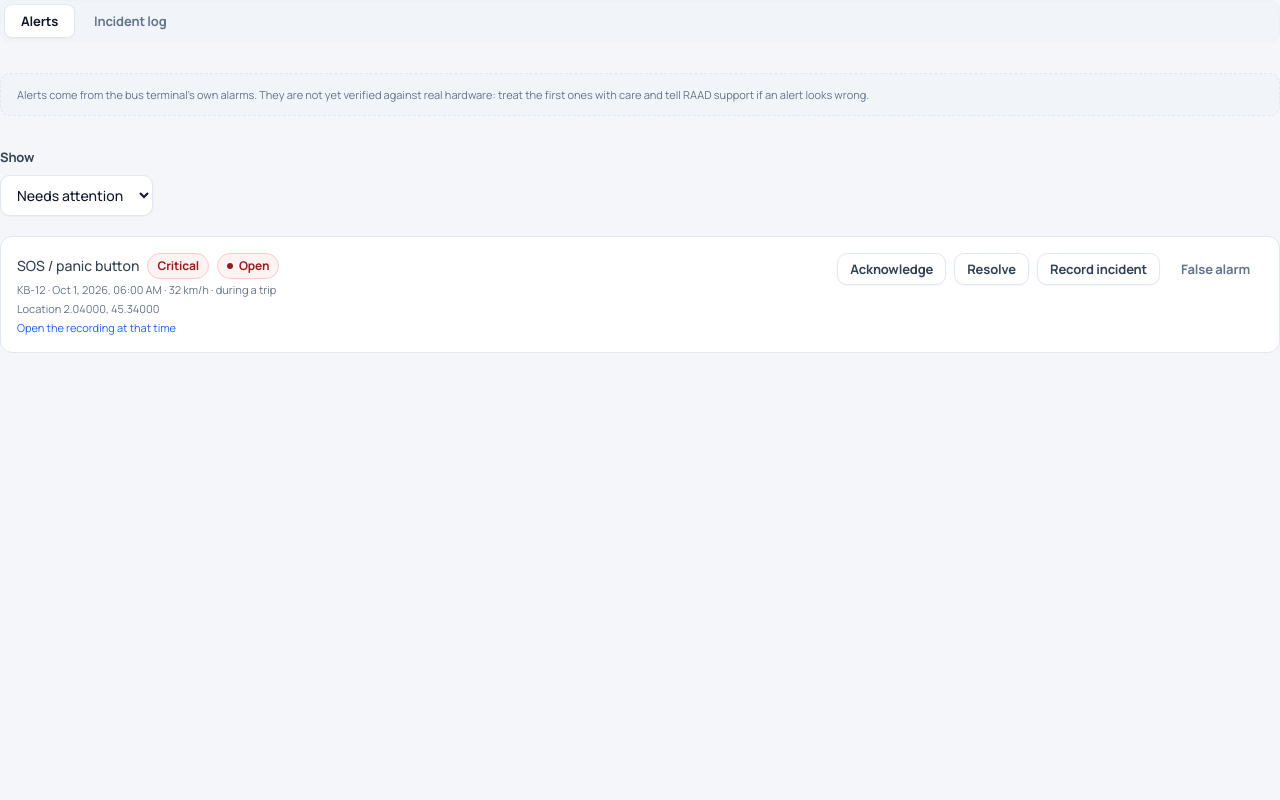
Test: SafetyPage › cannot notify parents until students are linked
Click the tab "Incident log" at (130, 21), box [77,4,184,38]
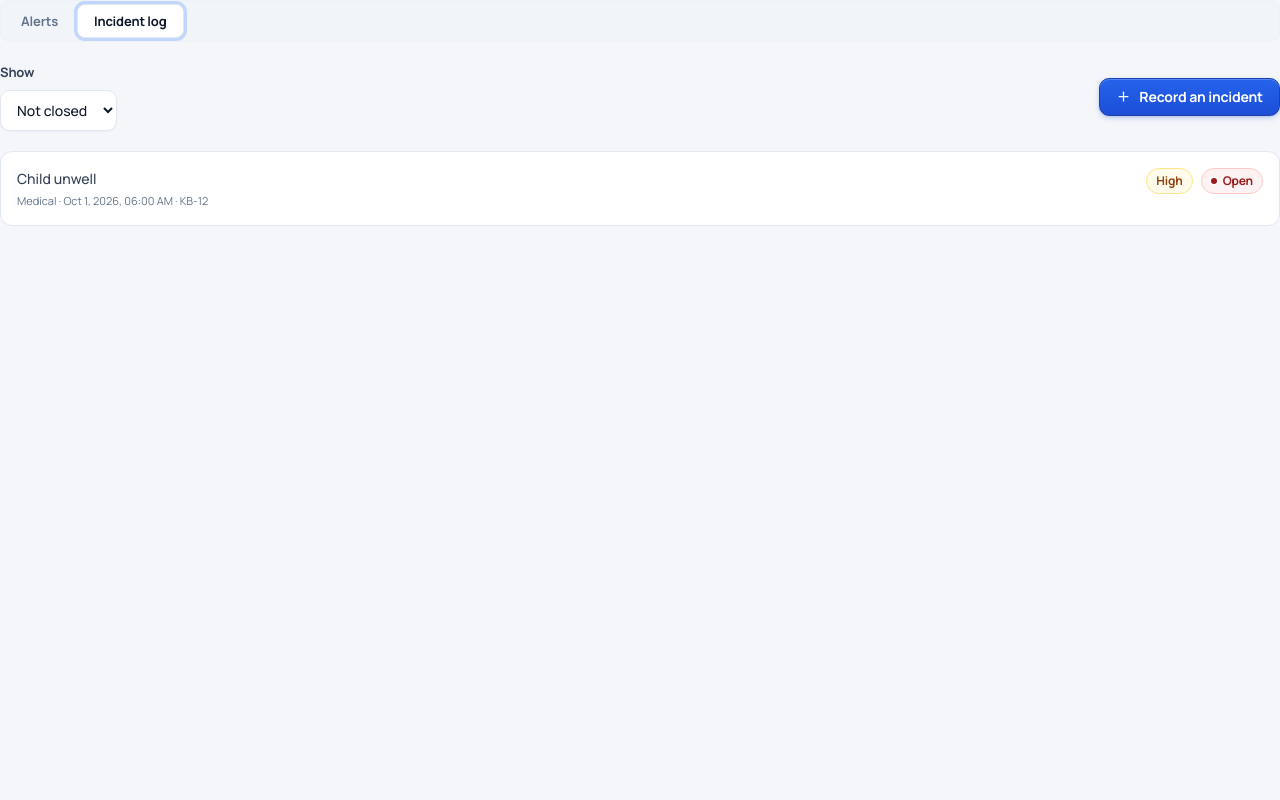
Click the button "Child unwell" at (57, 179), box [17,168,1134,190]
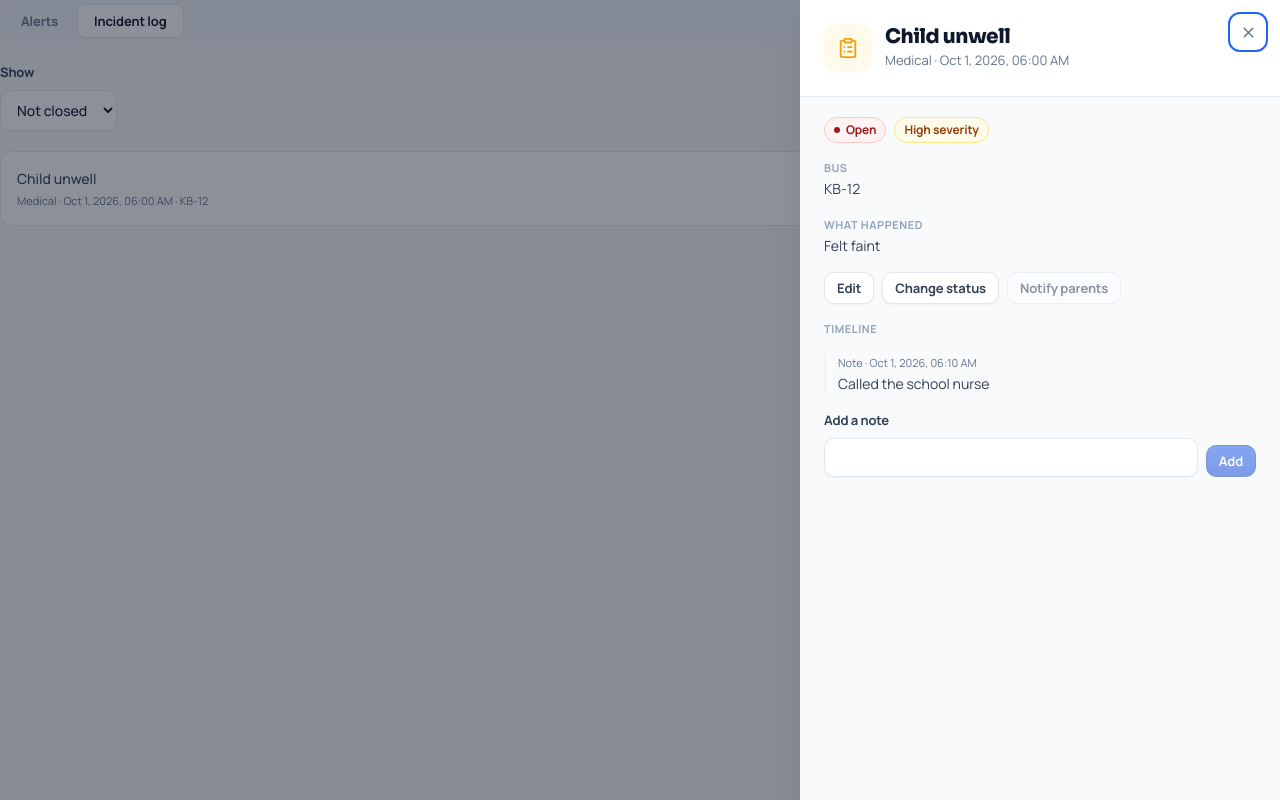
Check: the button "Notify parents" is disabled, box [1007,272,1121,304]
